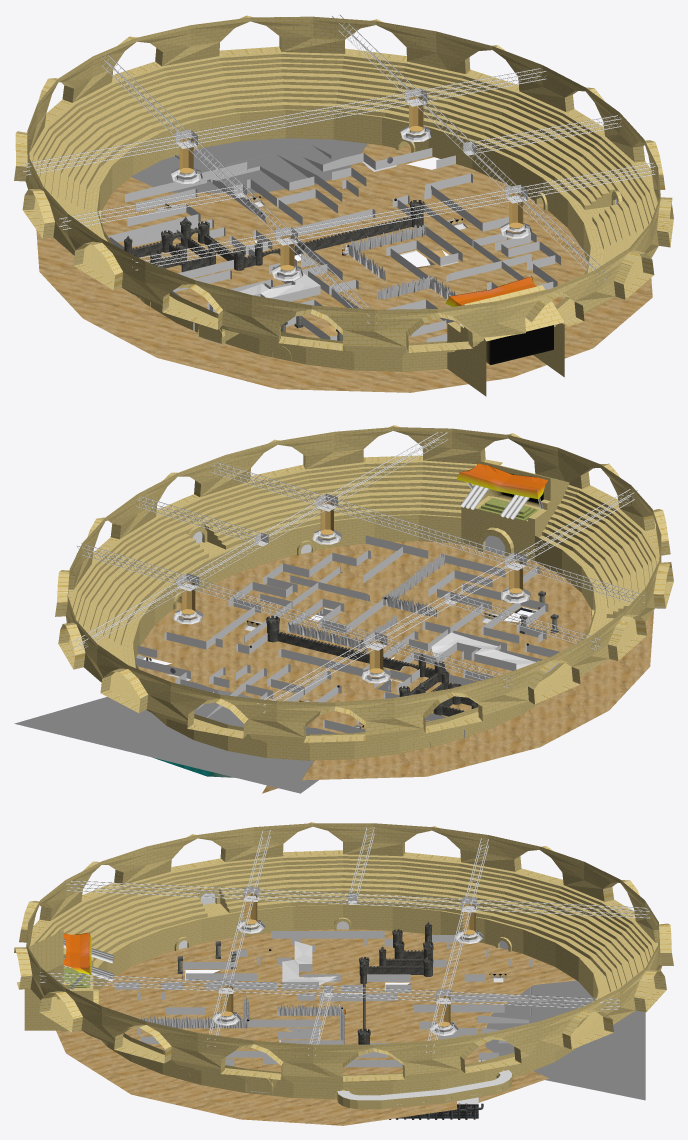
The model's file is arena.glb.
The picture shows the model from 3 angles, top to bottom: view 1: azimuth 30°, elevation 25°; view 2: azimuth 150°, elevation 25°; view 3: azimuth 270°, elevation 25°; orthographic projection. The views are drawn at different scales.
Parts seen in each view (by area): view 1: mesh_34, mesh_15, mesh_24, mesh_25, mesh_18, mesh_13, mesh_7, mesh_31, mesh_19, mesh_22, mesh_21, mesh_23 (+1 smaller); view 2: mesh_34, mesh_15, mesh_24, mesh_25, mesh_13, mesh_18, mesh_7, mesh_31, mesh_19, mesh_22, mesh_21, mesh_26 (+3 smaller); view 3: mesh_34, mesh_15, mesh_24, mesh_25, mesh_13, mesh_18, mesh_31, mesh_7, mesh_22, mesh_29, mesh_26, mesh_23 (+2 smaller).
Boxes of the visible parts, <box> form: mesh_34: <box>14,15,673,396</box>; mesh_15: <box>36,143,652,392</box>; mesh_24: <box>108,145,532,342</box>; mesh_25: <box>23,15,659,323</box>; mesh_18: <box>25,15,659,308</box>; mesh_13: <box>131,138,367,193</box>; mesh_7: <box>124,199,424,272</box>; mesh_31: <box>171,96,531,281</box>; mesh_19: <box>425,173,560,289</box>; mesh_22: <box>347,223,457,300</box>; mesh_21: <box>199,162,531,280</box>; mesh_23: <box>450,277,536,305</box>; mesh_34: <box>55,425,673,760</box>; mesh_15: <box>137,541,653,793</box>; mesh_24: <box>135,535,559,737</box>; mesh_25: <box>73,432,644,712</box>; mesh_13: <box>14,690,319,793</box>; mesh_18: <box>73,432,637,706</box>; mesh_7: <box>266,615,477,716</box>; mesh_31: <box>173,501,530,683</box>; mesh_19: <box>164,550,370,649</box>; mesh_22: <box>287,552,445,649</box>; mesh_21: <box>244,566,367,642</box>; mesh_26: <box>431,632,535,669</box>; mesh_34: <box>14,822,673,1109</box>; mesh_15: <box>56,929,576,1125</box>; mesh_24: <box>114,931,593,1061</box>; mesh_25: <box>39,827,651,1055</box>; mesh_13: <box>485,980,645,1100</box>; mesh_18: <box>43,827,649,1068</box>; mesh_31: <box>212,893,483,1035</box>; mesh_7: <box>357,924,433,1044</box>; mesh_22: <box>140,995,344,1044</box>; mesh_29: <box>70,922,511,1104</box>; mesh_26: <box>282,941,336,985</box>; mesh_23: <box>63,933,88,967</box>.
Bounding box in the file's own units: 298 × 61.84 × 359.
Materials: 14 (14 with a texture image).
